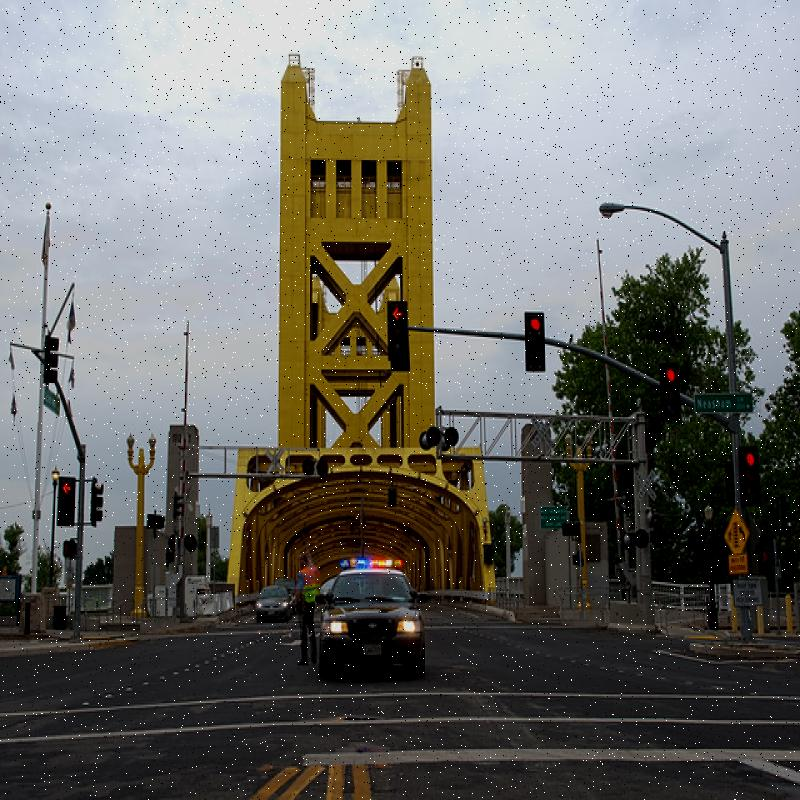AmbulanceSiren: (335, 541, 412, 572)
